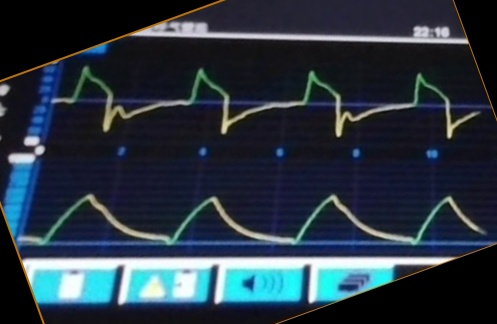Premature_cycling Flow: (68, 57, 473, 143)
Premature_cycling Volume: (36, 173, 475, 248)
